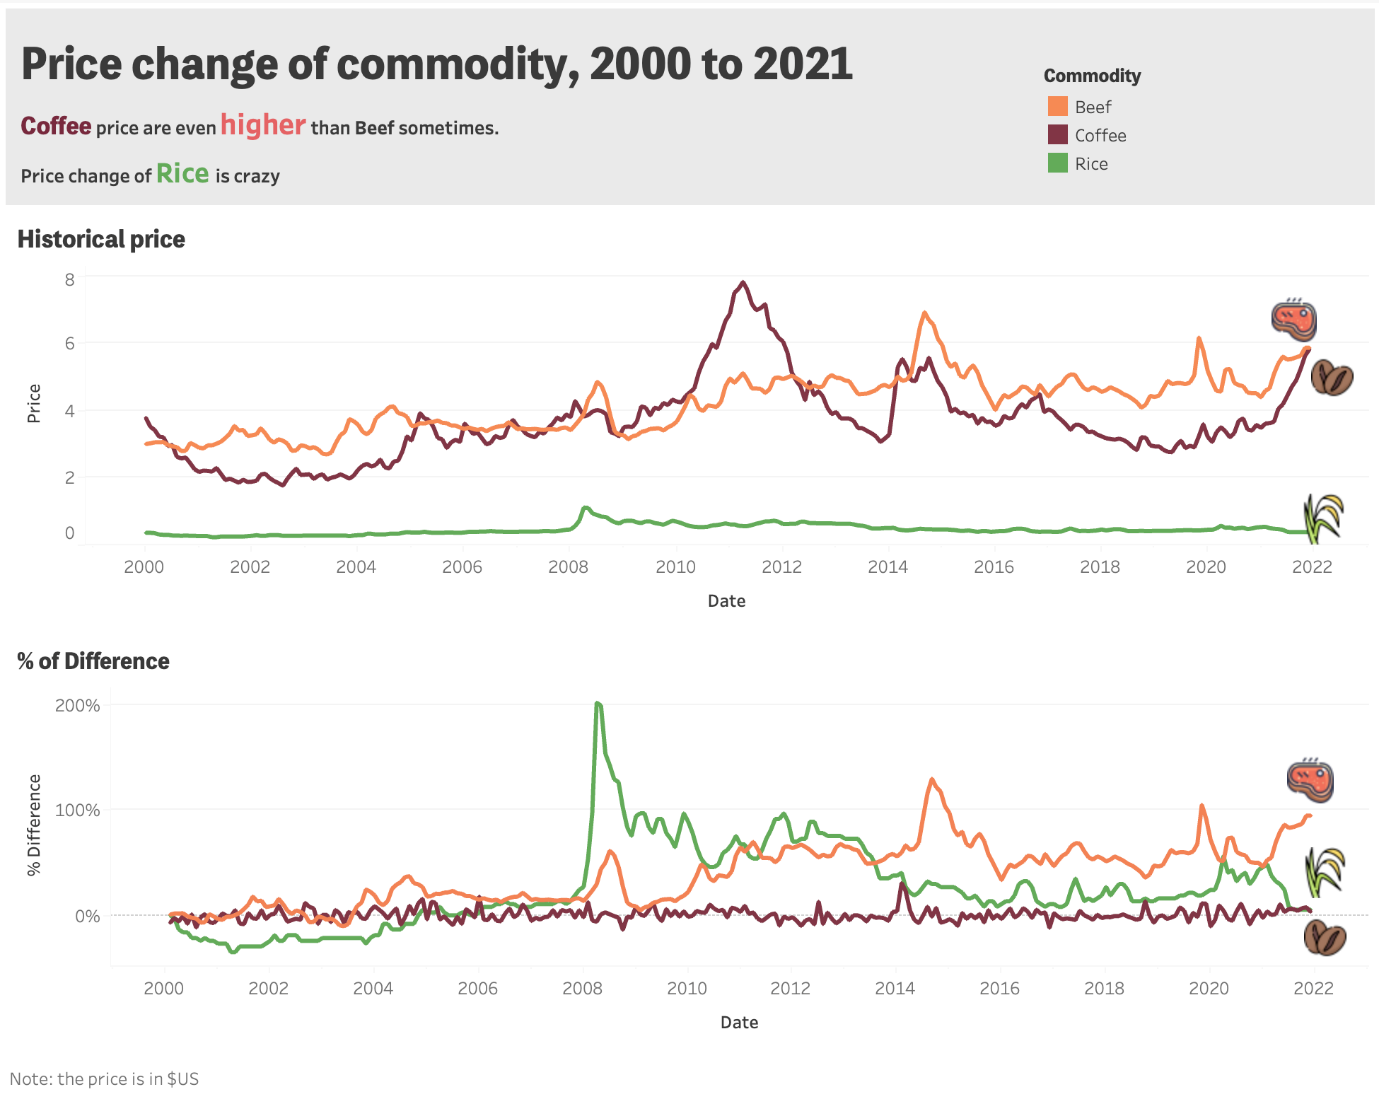

The dashboard page shown, as its layout file describes it:
{"tool":"tableau","page":{"name":"Dashboard 1","canvas":[1000,800],"ordinal":0},"visuals":[{"type":"title","box":[12,12,976,147]},{"type":"legend","title":"Historical price","param":"[federated.1sc7kas1pnjbul1fjgyw21viopx4].[:Measure Names]","box":[750,57,239,82]},{"type":"worksheet","title":"Historical price","mark":"Automatic","cols":["Month&Year"],"box":[12,159,976,299]},{"type":"image","box":[837,209,61,47]},{"type":"image","param":"/var/folders/hs/ln67s53n0gxf57pyz_ftzkrw0000gn/T/tableau-temp/1nccbp10o7g5pt1blu","box":[911,220,42,32]},{"type":"image","box":[895,225,38,32]},{"type":"image","param":"/var/folders/hs/ln67s53n0gxf57pyz_ftzkrw0000gn/T/tableau-temp/1nccbp10o7g5pt1blu","box":[939,262,33,30]},{"type":"image","box":[924,289,48,37]},{"type":"image","box":[925,359,47,36]},{"type":"worksheet","title":"% of Difference","mark":"Automatic","cols":["Month&Year"],"box":[12,458,976,298]},{"type":"image","param":"/var/folders/hs/ln67s53n0gxf57pyz_ftzkrw0000gn/T/tableau-temp/1nccbp10o7g5pt1blu","box":[922,545,43,33]},{"type":"image","box":[926,609,47,36]},{"type":"image","param":"/var/folders/hs/ln67s53n0gxf57pyz_ftzkrw0000gn/T/tableau-temp/1nccbp10o7g5pt1blu","box":[934,658,34,30]},{"type":"image","box":[930,686,48,37]},{"type":"text","box":[12,756,976,32]}]}

Visuals, with their boxes in screenshot pixels (x1, y1, x2, y2), scaled from the page's 1000x800 canvas onto the 1379x1099 screenshot:
title: 17/16/1362/218
"Historical price" legend: 1034/78/1364/191
"Historical price" worksheet: 17/218/1362/629
image: 1154/287/1238/352
image: 1256/302/1314/346
image: 1234/309/1287/353
image: 1295/360/1340/401
image: 1274/397/1340/448
image: 1276/493/1340/543
"% of Difference" worksheet: 17/629/1362/1039
image: 1271/749/1331/794
image: 1277/837/1342/886
image: 1288/904/1335/945
image: 1282/942/1349/993
text: 17/1039/1362/1083
